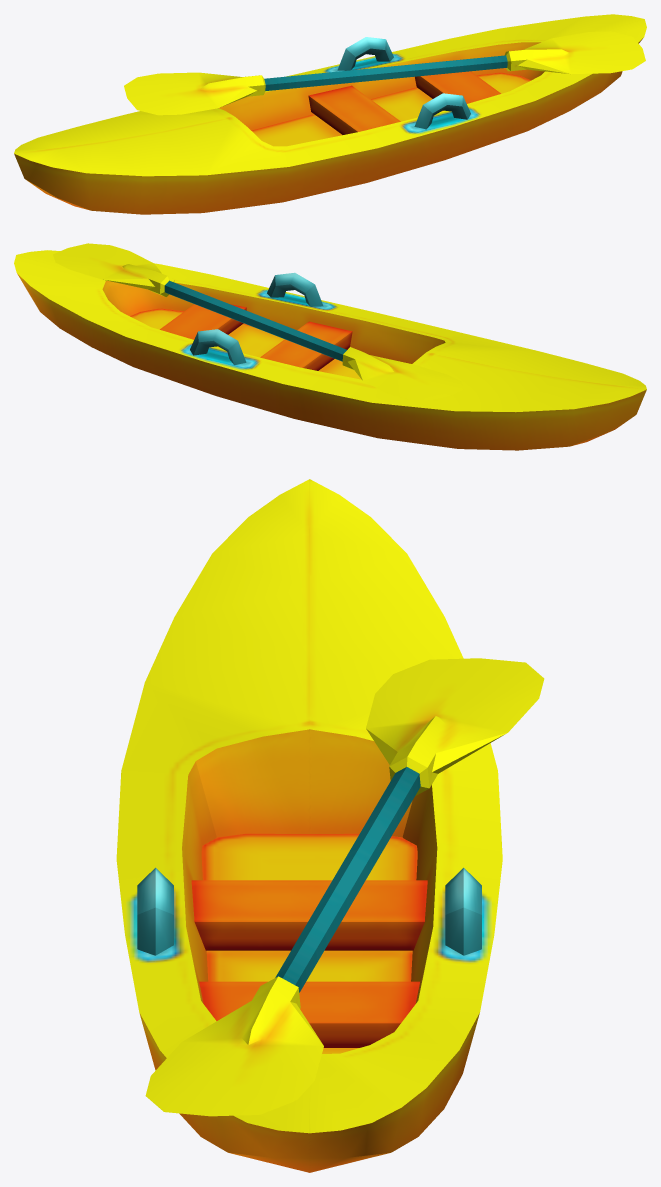
The model's file is Boat9.fbx.
The picture shows the model from 3 angles, top to bottom: view 1: azimuth 30°, elevation 25°; view 2: azimuth 150°, elevation 25°; view 3: azimuth 270°, elevation 25°; orthographic projection. The views are drawn at different scales.
Parts seen in each view (by area): view 1: Kayak_Kayak_0.001; view 2: Kayak_Kayak_0.001; view 3: Kayak_Kayak_0.001.
Part boxes in pixels (left/top/right/bottom): Kayak_Kayak_0.001: left=14, top=14, right=646, bottom=214; Kayak_Kayak_0.001: left=14, top=243, right=646, bottom=450; Kayak_Kayak_0.001: left=116, top=479, right=544, bottom=1172.
Size of the model in its own units: 1.97 by 0.3162 by 0.578.
